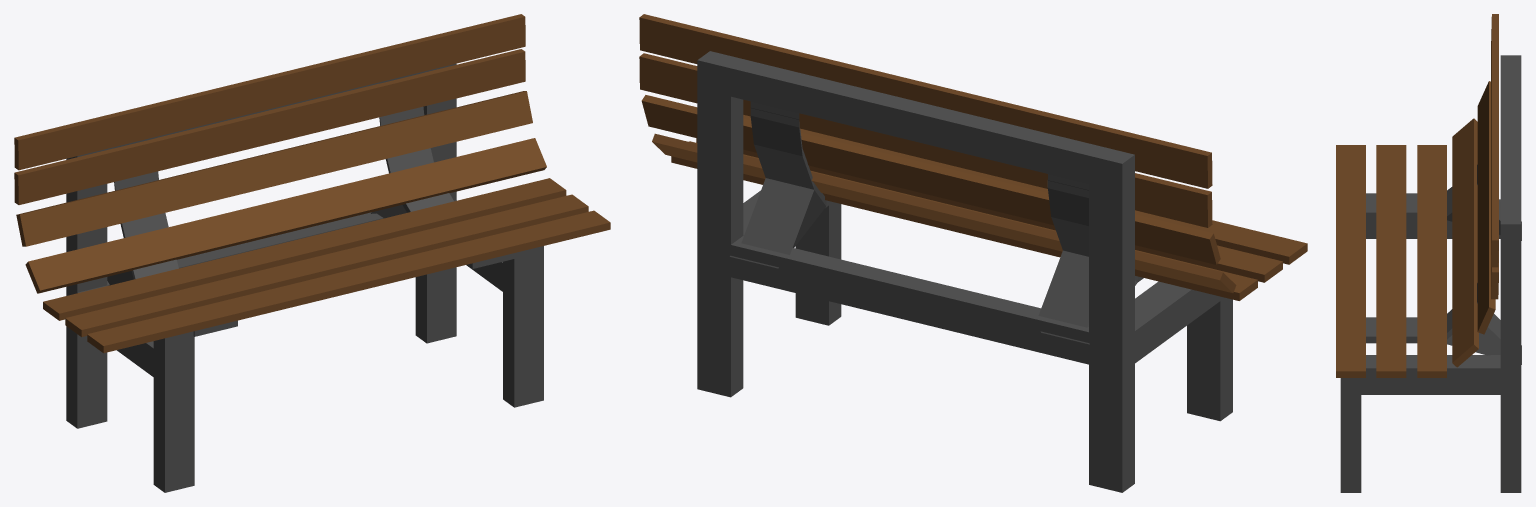
File: bench.fbx
3 views of the same model, side by side, from view 1: azimuth 30°, elevation 25°; view 2: azimuth 150°, elevation 25°; view 3: azimuth 270°, elevation 25° (orthographic). The views are drawn at different scales.
Visible parts, largest first — view 1: Cube; view 2: Cube; view 3: Cube.
Part boxes in pixels (x1,y1,x2,y2): Cube: (14,14,610,492); Cube: (639,14,1307,492); Cube: (1336,14,1521,492).
Size of the model in its own units: 1607 by 932 by 558.
